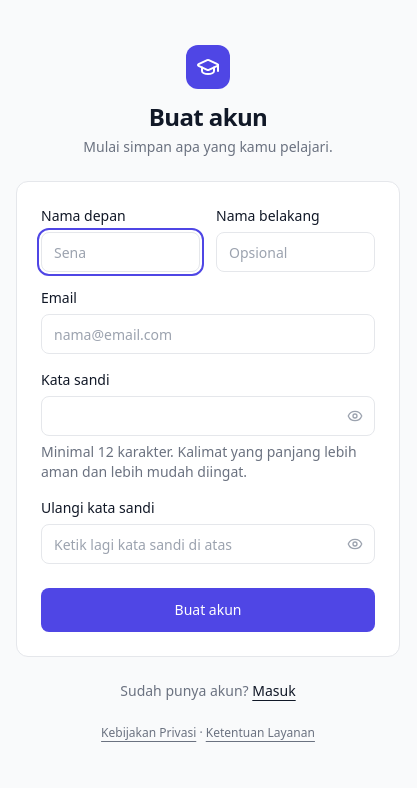
signup validation › says what is wrong without asking the server
This screenshot has width=417, height=788.
Click the button "Buat akun". click: (208, 610)
box: x1=41 y1=588 x2=375 y2=632
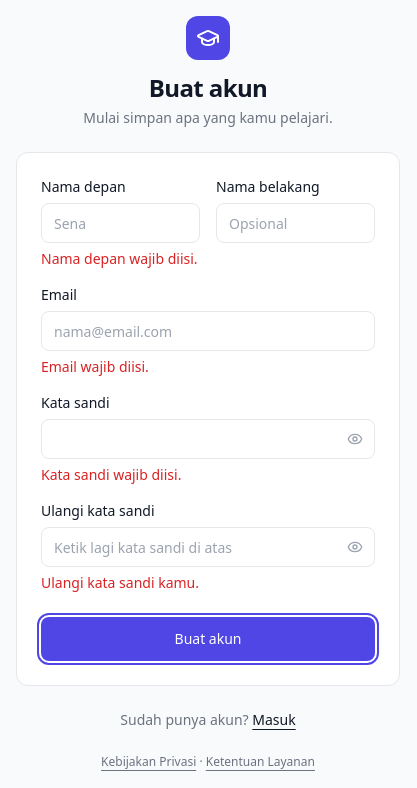
Result: the text "Nama depan wajib diisi." is shown at x1=41 y1=249 x2=200 y2=269
Result: the text "Email wajib diisi." is shown at x1=41 y1=357 x2=149 y2=376
Result: the text "Kata sandi wajib diisi." is shown at x1=41 y1=465 x2=181 y2=484
